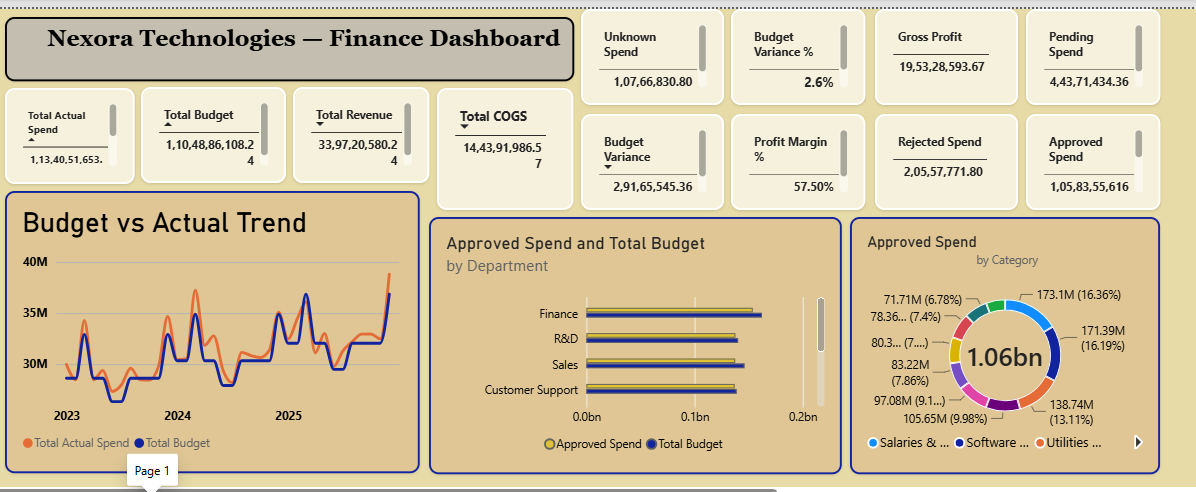

The page's visual inventory and layout, read from the dashboard file:
{"tool":"powerbi","page":{"name":"Page 1","canvas":[1920,1080],"ordinal":0},"visuals":[{"type":"tableEx","fields":{"Values":["fact_actual_expenses_CLEANED.Total Actual Spend"]},"box":[8.1,81.8,135.4,100],"z":0},{"type":"tableEx","fields":{"Values":["fact_budget.Totle Budget"]},"box":[150.5,81.4,150.5,100],"z":1000},{"type":"tableEx","fields":{"Values":["fact_actual_expenses_CLEANED.Budget Variance"]},"box":[608.2,109.3,149.5,100],"z":2000},{"type":"tableEx","fields":{"Values":["fact_actual_expenses_CLEANED.Budget Variance %"]},"box":[764.9,0,140.2,100],"z":3000},{"type":"tableEx","fields":{"Values":["fact_revenue.Total Revenue"]},"box":[308.2,81.4,142.3,100],"z":4000},{"type":"tableEx","fields":{"Values":["fact_revenue.Total COGS"]},"box":[458.6,81.8,142.4,127.3],"z":5000},{"type":"tableEx","fields":{"Values":["fact_revenue.Profit Margin %"]},"box":[764.9,109.3,140.4,100],"z":6000},{"type":"tableEx","fields":{"Values":["fact_revenue.Gross Profit"]},"box":[914.4,0,149.5,100],"z":7000},{"type":"lineChart","title":"Budget vs Actual Trend","fields":{"Y":["fact_actual_expenses_CLEANED.Total Actual Spend","fact_budget.Total Budget"],"Category":["dim_calendar.MonthYear"]},"box":[8.1,189.9,432.3,293.9],"z":8000},{"type":"tableEx","fields":{"Values":["fact_actual_expenses_CLEANED.Approved Spend"]},"box":[1071.7,109.1,140.4,100],"z":9000},{"type":"tableEx","fields":{"Values":["fact_actual_expenses_CLEANED.Pending Spend"]},"box":[1071.7,0,140.4,100],"z":10000},{"type":"tableEx","fields":{"Values":["fact_actual_expenses_CLEANED.Rejected Spend"]},"box":[914.4,109.3,149.5,100],"z":11000},{"type":"tableEx","fields":{"Values":["fact_actual_expenses_CLEANED.Unknown Spend"]},"box":[608.2,0,149.5,100],"z":12000},{"type":"clusteredBarChart","fields":{"Category":["dim_department.Department"],"Y":["fact_actual_expenses_CLEANED.Approved Spend","fact_budget.Total Budget"]},"box":[450.5,216.2,430.3,267.7],"z":13000},{"type":"donutChart","fields":{"Category":["dim_category.Category"],"Y":["fact_actual_expenses_CLEANED.Approved Spend"]},"box":[888.9,216.2,323.2,267.7],"z":14000},{"type":"textbox","box":[8.1,8.1,592.9,66.7],"z":15000}]}

Visuals, with their boxes on the page's 1920x1080 design canvas (x1, y1, x2, y2). These are canvas units, not pixel positions in the 1196x492 screenshot, which may show the page scaled, cropped or inside an application window:
tableEx - fact_actual_expenses_CLEANED.Total Actual Spend: 8:82:144:182
tableEx - fact_budget.Totle Budget: 150:81:301:181
tableEx - fact_actual_expenses_CLEANED.Budget Variance: 608:109:758:209
tableEx - fact_actual_expenses_CLEANED.Budget Variance %: 765:0:905:100
tableEx - fact_revenue.Total Revenue: 308:81:450:181
tableEx - fact_revenue.Total COGS: 459:82:601:209
tableEx - fact_revenue.Profit Margin %: 765:109:905:209
tableEx - fact_revenue.Gross Profit: 914:0:1064:100
"Budget vs Actual Trend" lineChart: 8:190:440:484
tableEx - fact_actual_expenses_CLEANED.Approved Spend: 1072:109:1212:209
tableEx - fact_actual_expenses_CLEANED.Pending Spend: 1072:0:1212:100
tableEx - fact_actual_expenses_CLEANED.Rejected Spend: 914:109:1064:209
tableEx - fact_actual_expenses_CLEANED.Unknown Spend: 608:0:758:100
clusteredBarChart - dim_department.Department x fact_actual_expenses_CLEANED.Approved Spend: 450:216:881:484
donutChart - dim_category.Category x fact_actual_expenses_CLEANED.Approved Spend: 889:216:1212:484
textbox: 8:8:601:75
